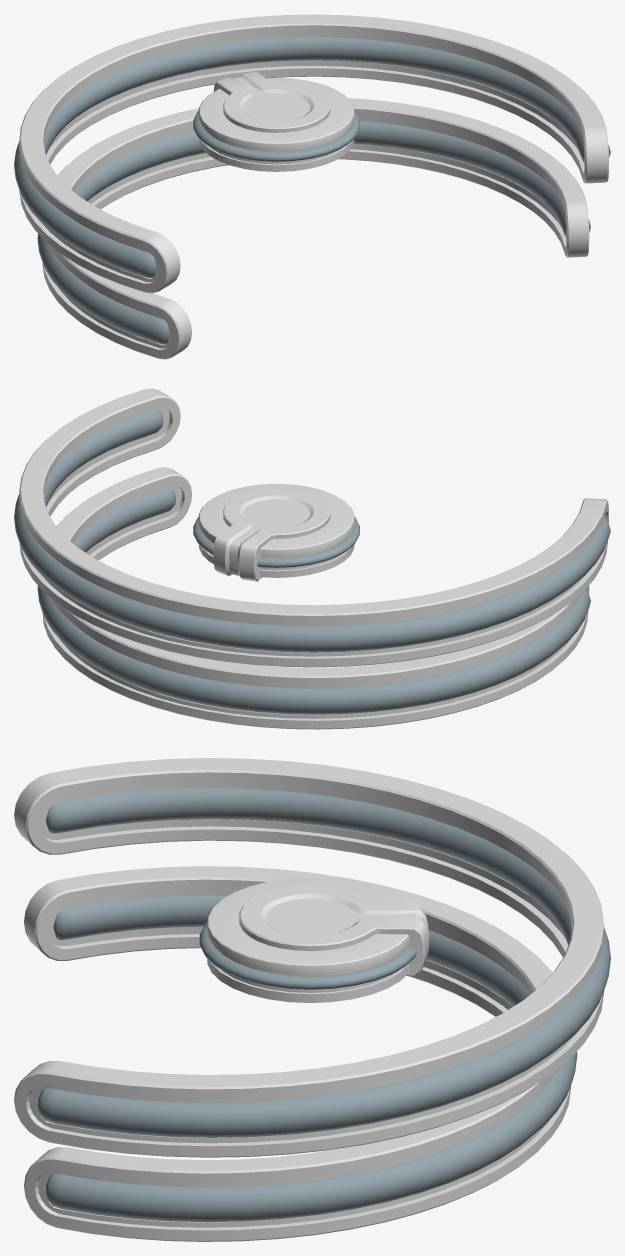
Rendered from InputIdentifier.fbx.
The picture shows the model from 3 angles, top to bottom: view 1: azimuth 30°, elevation 25°; view 2: azimuth 150°, elevation 25°; view 3: azimuth 270°, elevation 25°; orthographic projection. The views are drawn at different scales.
Parts seen in each view (by area): view 1: InputIdentifier_Frame (×2), InputIdentifier_InnerGlass (×3), InputIdentifier_PadFrame; view 2: InputIdentifier_Frame (×2), InputIdentifier_InnerGlass (×3), InputIdentifier_PadFrame; view 3: InputIdentifier_Frame (×2), InputIdentifier_InnerGlass (×3), InputIdentifier_PadFrame.
Boxes of the visible parts, left/top/right/bottom form: InputIdentifier_Frame (×2): left=19, top=14, right=608, bottom=359; InputIdentifier_InnerGlass (×3): left=14, top=37, right=610, bottom=344; InputIdentifier_PadFrame: left=199, top=71, right=354, bottom=171; InputIdentifier_Frame (×2): left=19, top=388, right=608, bottom=729; InputIdentifier_InnerGlass (×3): left=14, top=410, right=610, bottom=714; InputIdentifier_PadFrame: left=199, top=483, right=354, bottom=581; InputIdentifier_Frame (×2): left=14, top=758, right=604, bottom=1241; InputIdentifier_InnerGlass (×3): left=37, top=788, right=610, bottom=1222; InputIdentifier_PadFrame: left=207, top=878, right=429, bottom=1002.
Size of the model in its own units: 15.27 by 3.7 by 11.45.
